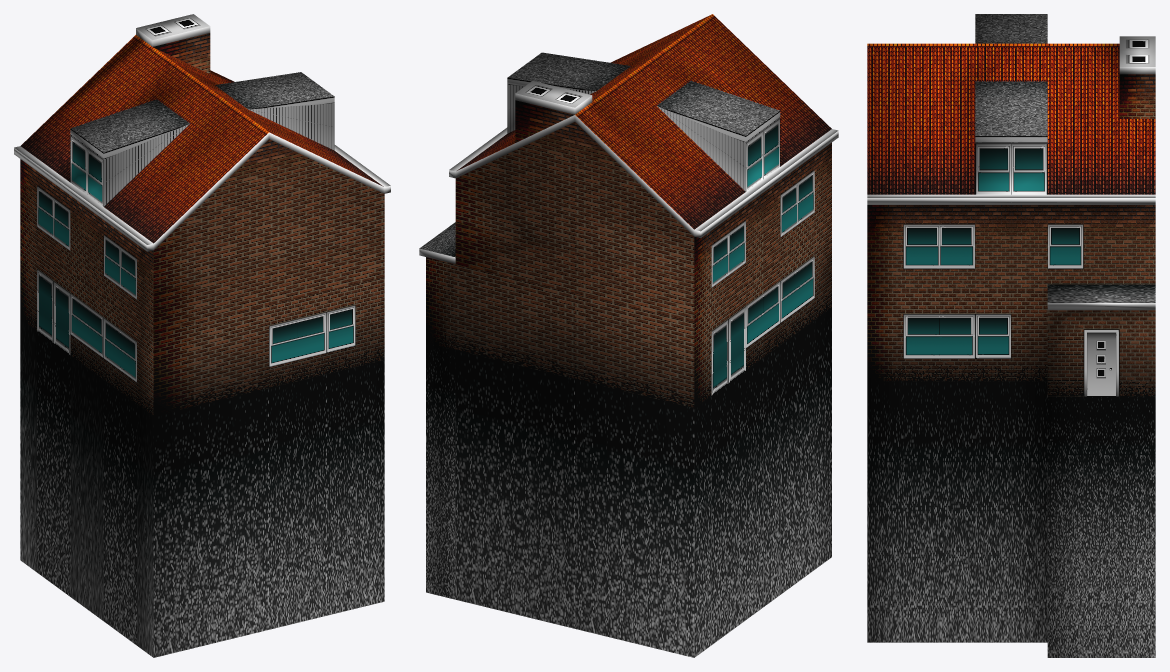
File: doorzon_mod2_1a.fbx
3 renders of one model, left to right at view 1: azimuth 30°, elevation 25°; view 2: azimuth 150°, elevation 25°; view 3: azimuth 270°, elevation 25°, orthographic. The views are drawn at different scales.
Parts seen in each view (by area): view 1: doorzon_mod2_1a; view 2: doorzon_mod2_1a; view 3: doorzon_mod2_1a.
Boxes of the visible parts, x1=… form: doorzon_mod2_1a: x1=14, y1=14, x2=390, y2=657; doorzon_mod2_1a: x1=419, y1=14, x2=838, y2=657; doorzon_mod2_1a: x1=867, y1=14, x2=1155, y2=657.
Bounding box in the file's own units: 1062 × 1879 × 900.
